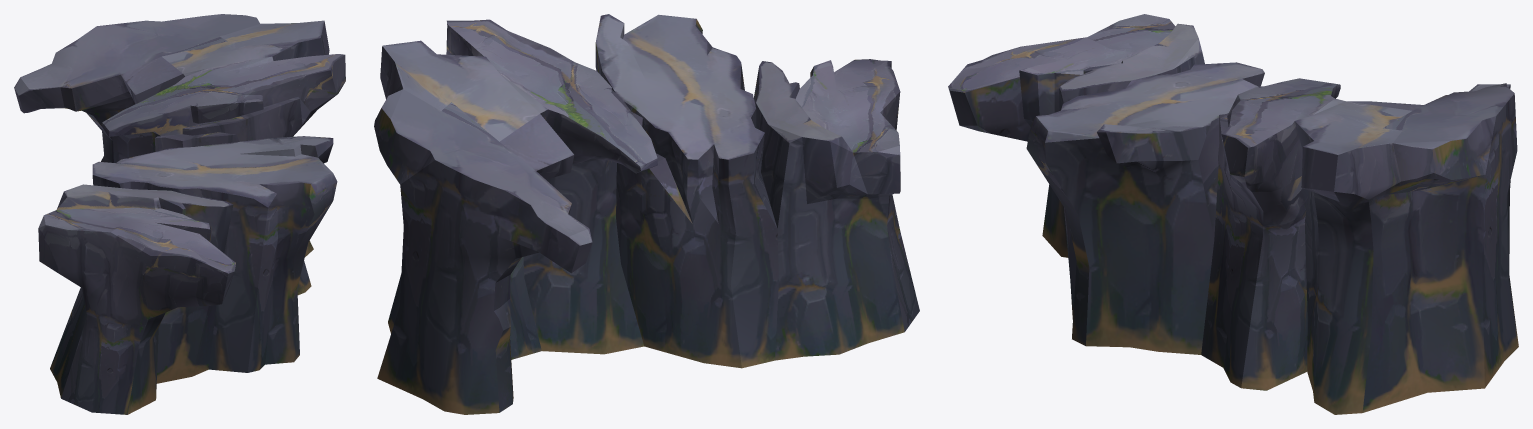
Rendered from scene_malujiakuangdao_shan07_1.FBX.
The picture shows the model from 3 angles, left to right: view 1: azimuth 30°, elevation 25°; view 2: azimuth 150°, elevation 25°; view 3: azimuth 270°, elevation 25°; orthographic projection. The views are drawn at different scales.
Visible parts, largest first — view 1: scene_malujiakuangdao_shan07_1; view 2: scene_malujiakuangdao_shan07_1; view 3: scene_malujiakuangdao_shan07_1.
Boxes of the visible parts, x1,y1,x2,y2 form: scene_malujiakuangdao_shan07_1: (14, 14, 345, 414); scene_malujiakuangdao_shan07_1: (374, 14, 919, 414); scene_malujiakuangdao_shan07_1: (948, 14, 1518, 414).
Bounding box in the file's own units: 1196 × 706 × 1356.
